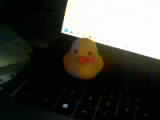duck: (57, 32, 104, 81)
